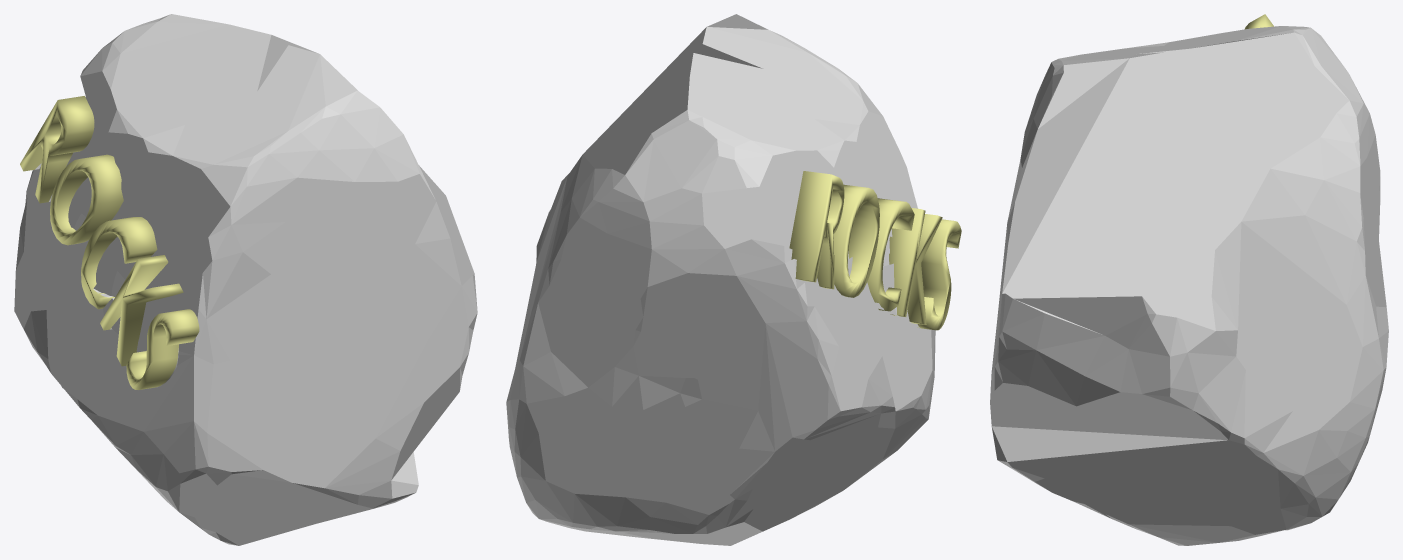
File: rock.fbx
3 renders of one model, left to right at view 1: azimuth 30°, elevation 25°; view 2: azimuth 150°, elevation 25°; view 3: azimuth 270°, elevation 25°, orthographic. The views are drawn at different scales.
Parts seen in each view (by area): view 1: Cube.001, Text; view 2: Cube.001, Text; view 3: Cube.001.
Part boxes in pixels (x1,y1,x2,y2): Cube.001: (14,14,477,545); Text: (20,96,199,389); Cube.001: (506,14,935,545); Text: (789,171,961,330); Cube.001: (990,26,1388,545).
Bounding box in the file's own units: 273 × 343 × 256.
